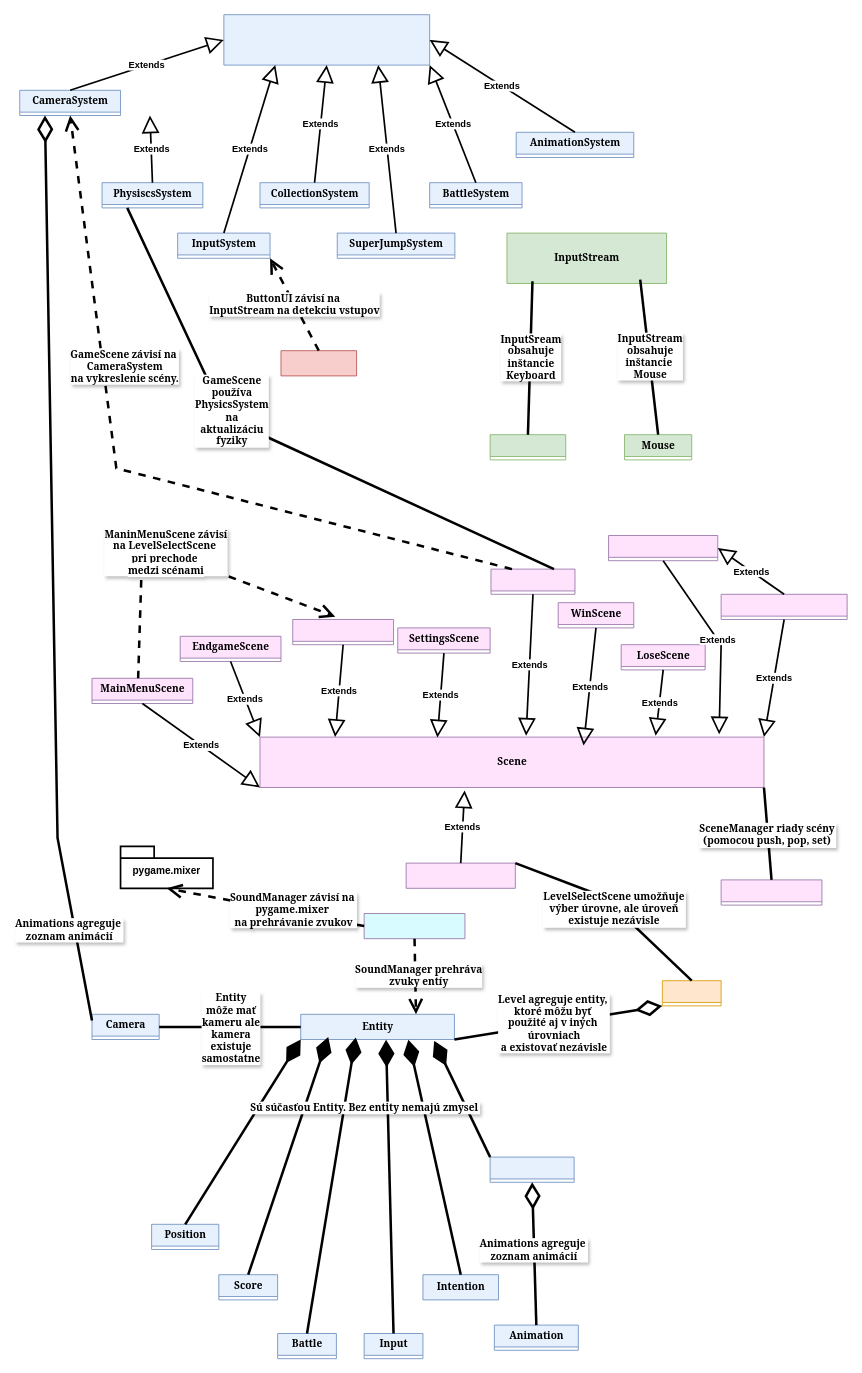
Some shapes in this 862 by 1373 pixel diagram are drawn without their labels. Each missing label, with the box of its shape:
Animations: (489, 1156, 574, 1182)
ButtonUI: (280, 350, 357, 376)
FadeTransitionScene: (720, 593, 847, 620)
GameScene: (490, 568, 575, 594)
Keyboard: (489, 434, 566, 460)
Level: (662, 980, 721, 1006)
LevelSelectScene: (405, 862, 515, 888)
SceneManager: (720, 879, 822, 905)
SoundManager: (363, 913, 465, 939)
System: (223, 14, 430, 65)
TransitionScene: (608, 535, 718, 561)
TutorialScene: (292, 619, 394, 645)
